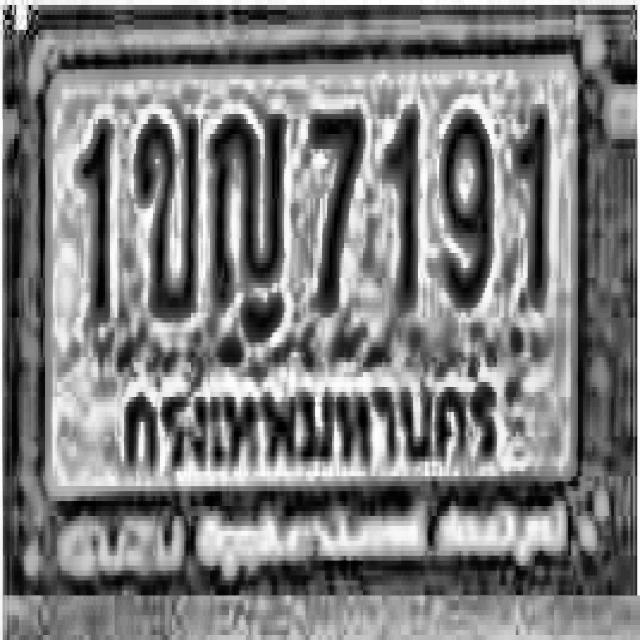license-plate: (25, 28, 608, 588)
